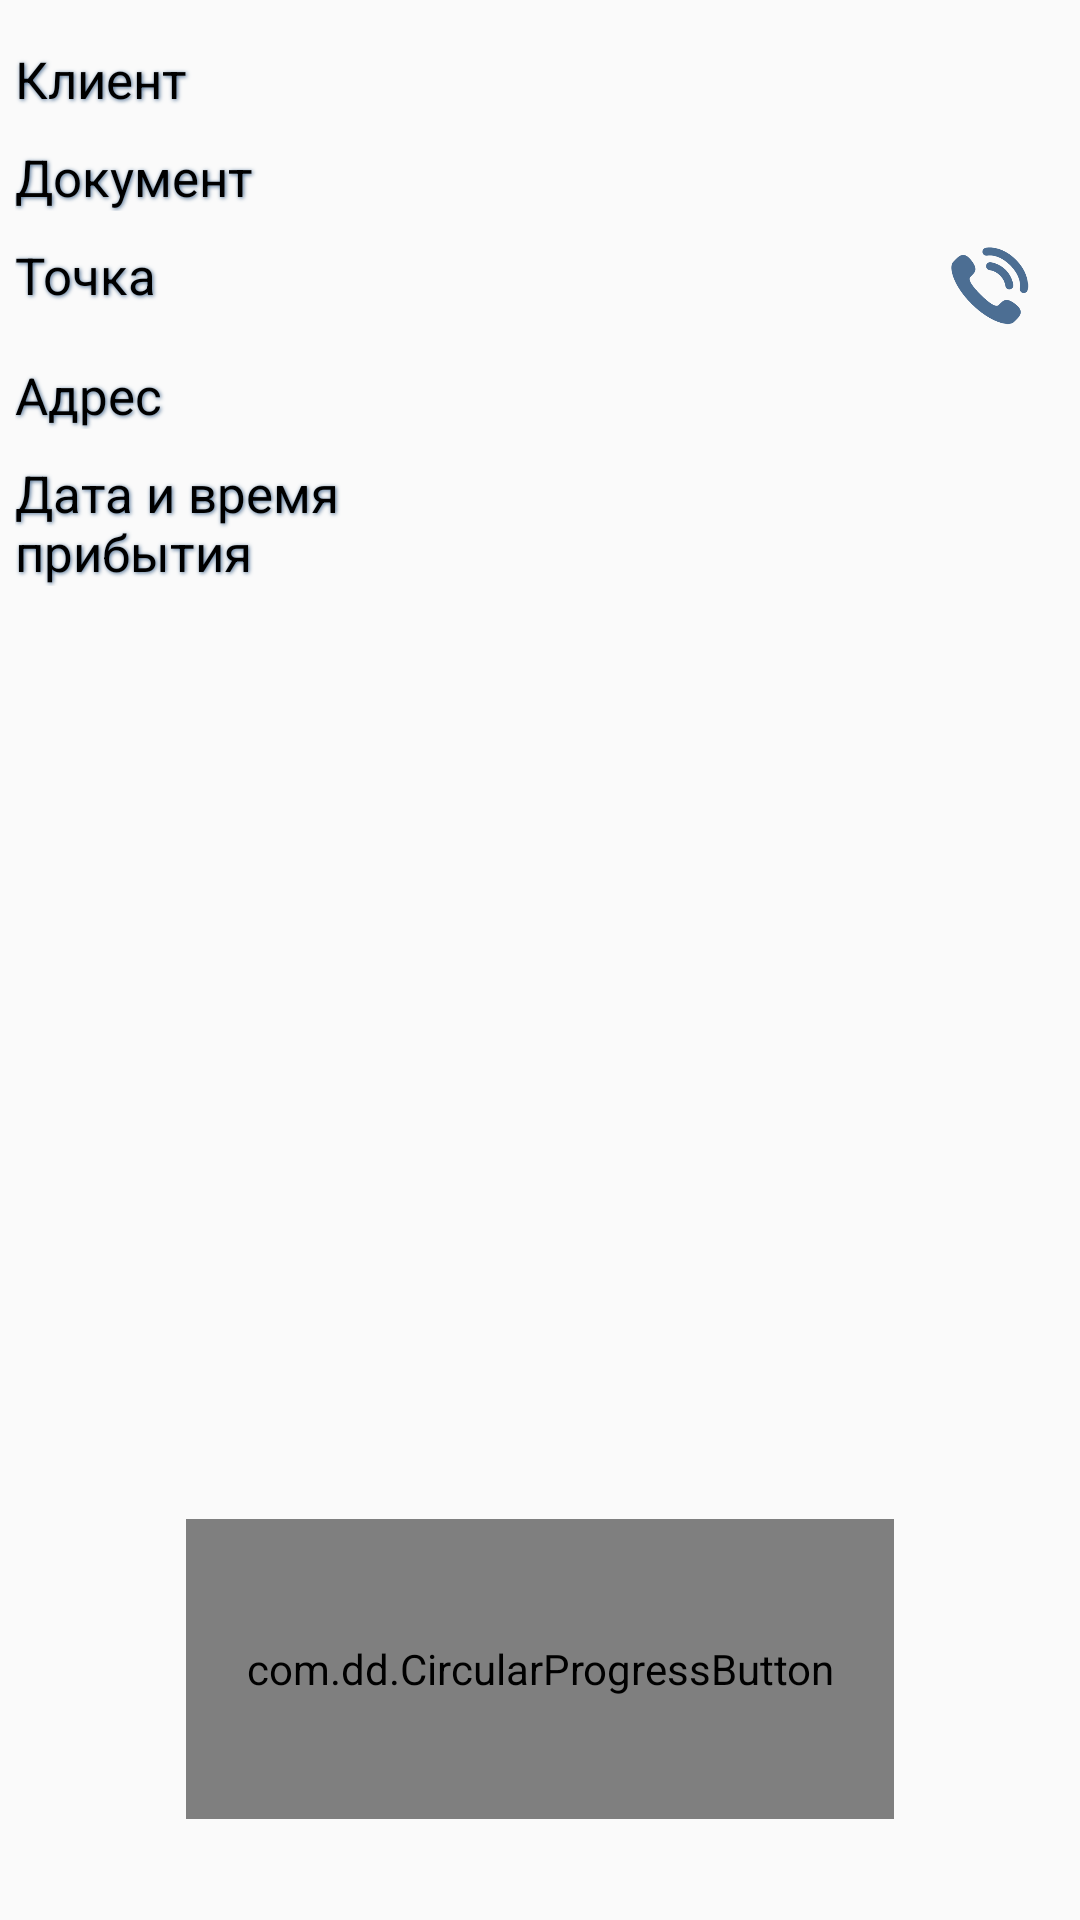

Icons on this 1080w x 1920h Android screen, each with its box as bbox=[x1, y1, x2, y2]:
phone: bbox=[951, 247, 1029, 324]
